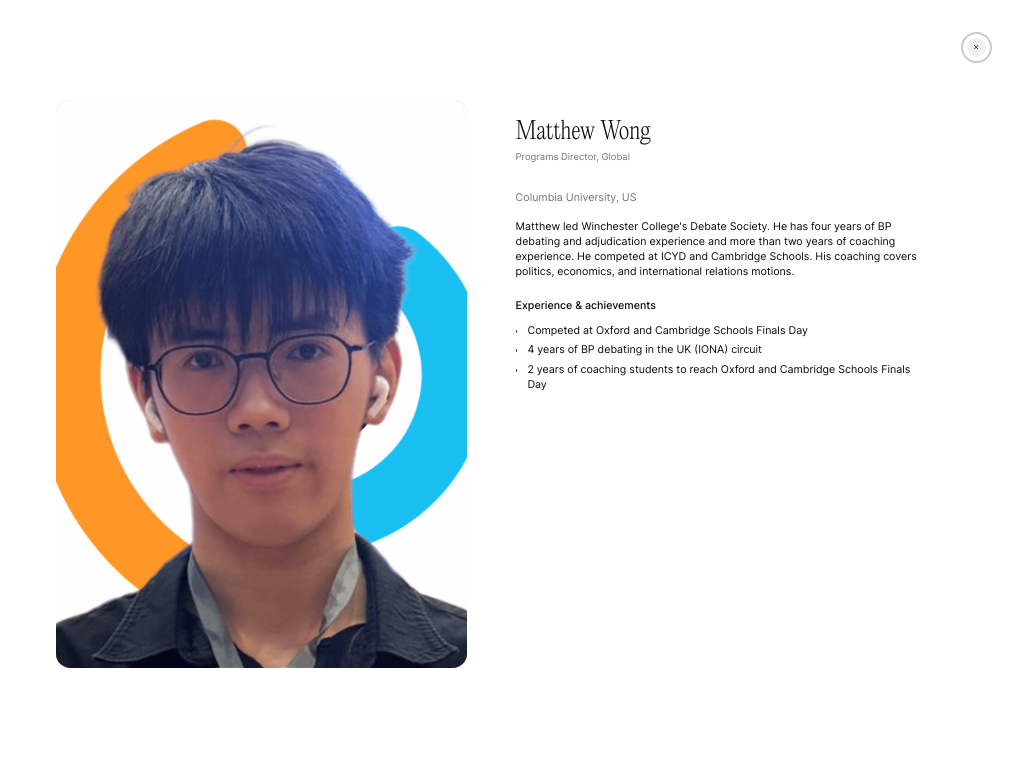
Test: current-member hash links open and close the matching biography, while retired hashes do not
Click the button named "Close biography" at [977, 47], box [967,38,986,57]
(page scrolled)
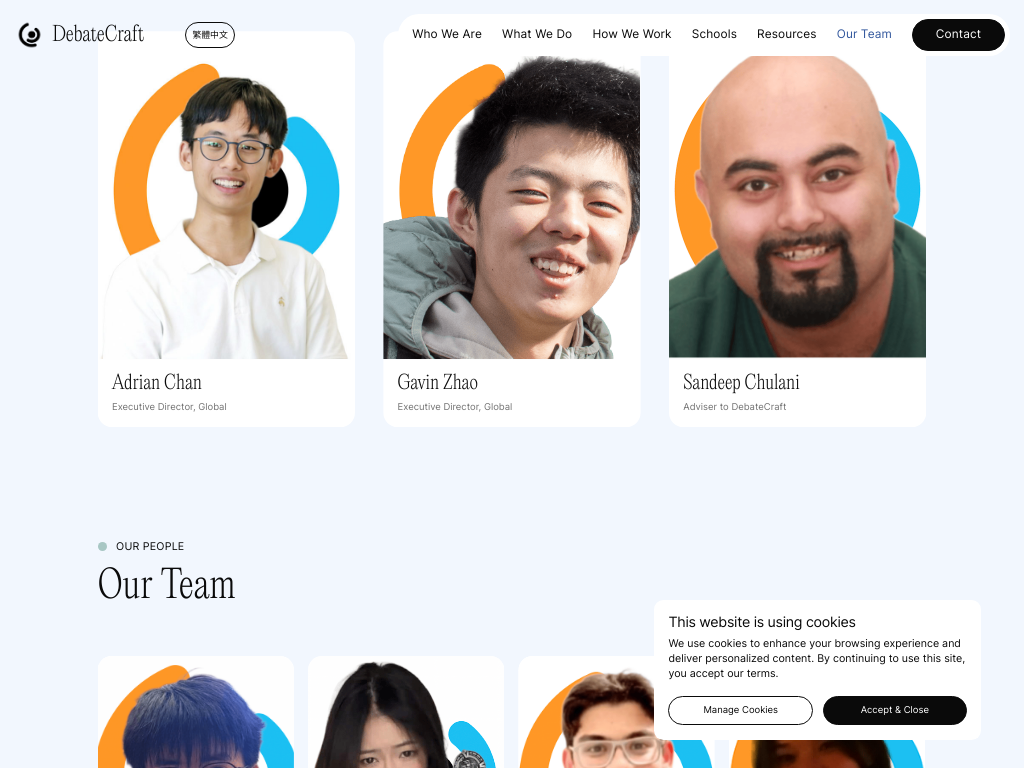
Click the button with aria-label "View biography for Adrian Chan" at [157, 384], box [112,374,202,395]
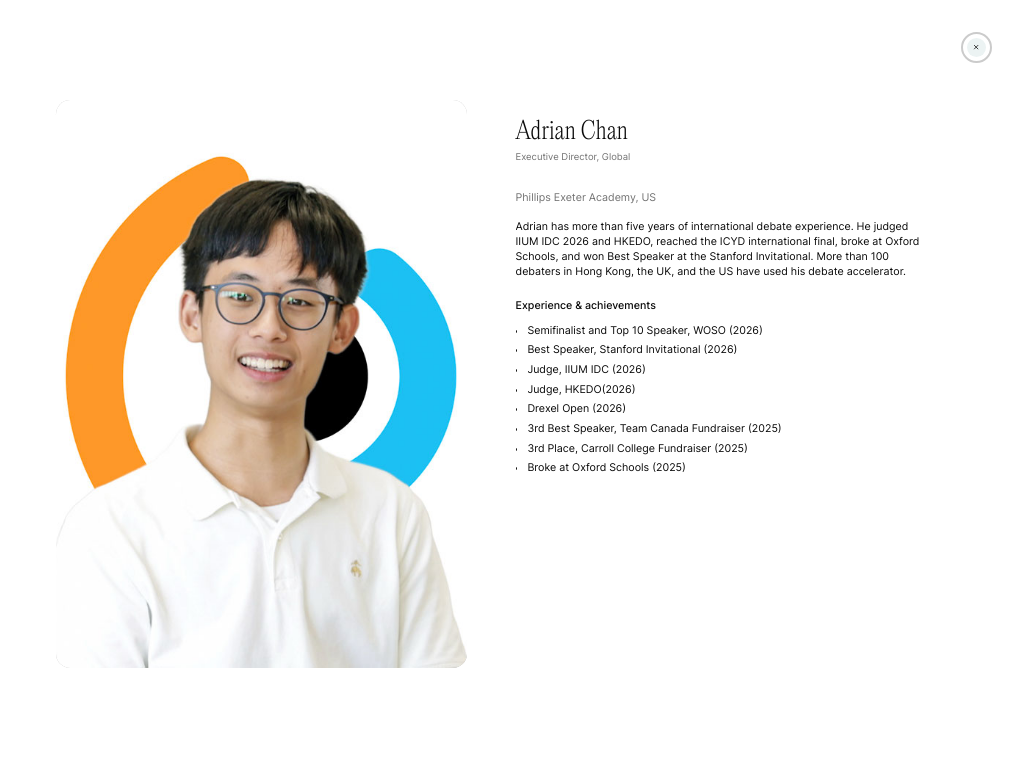
Press Escape
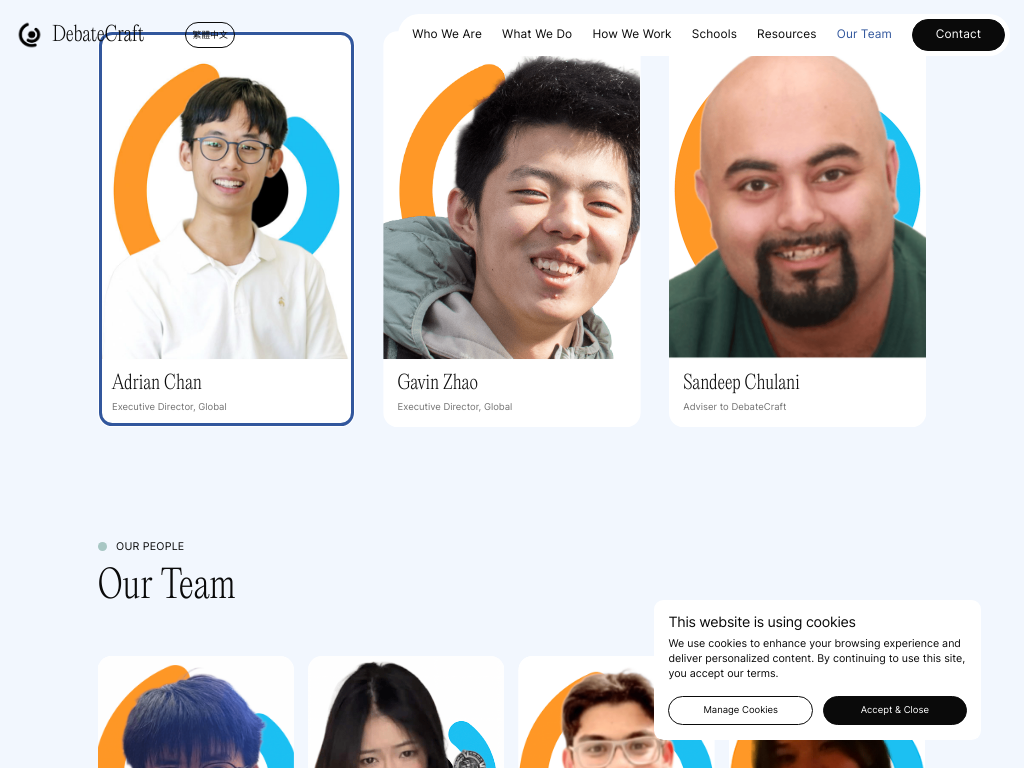
Expected: the dialog is gone
